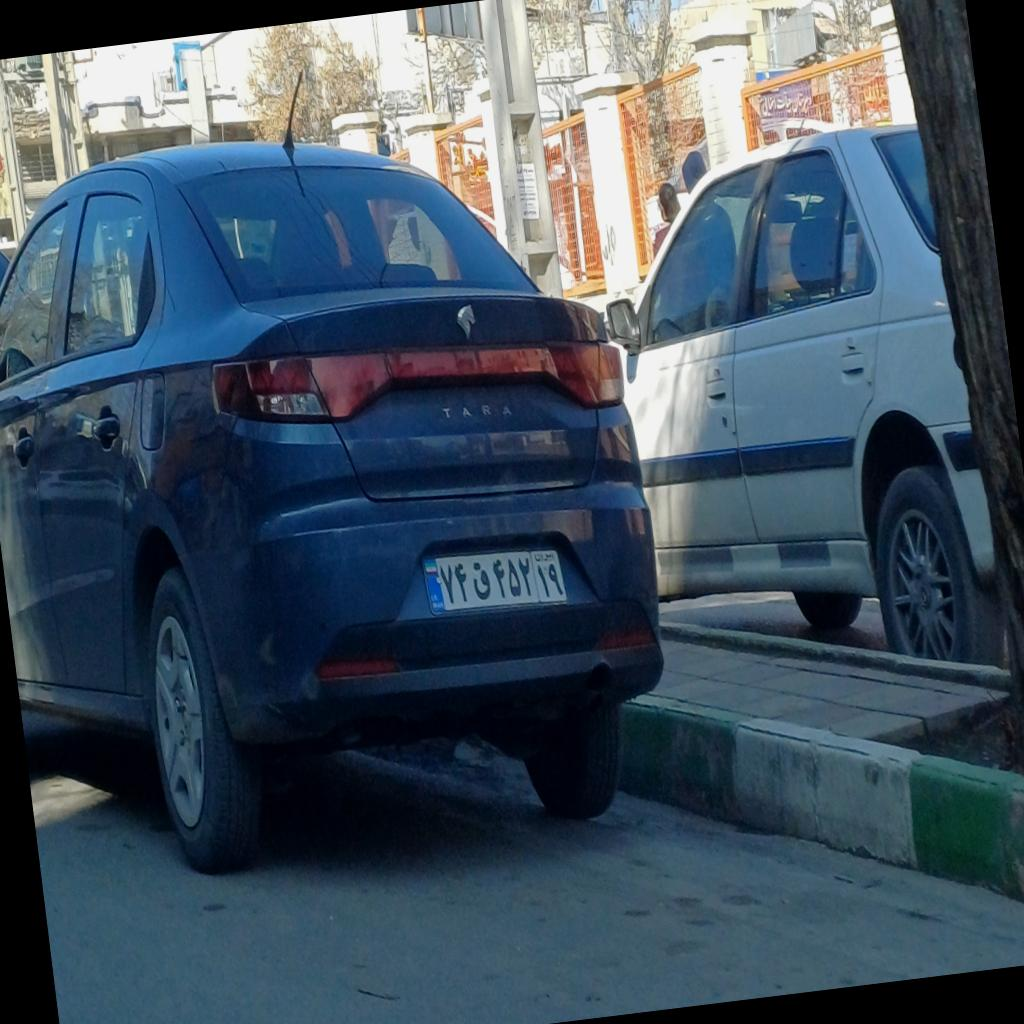Plates: (421, 537, 568, 617)
